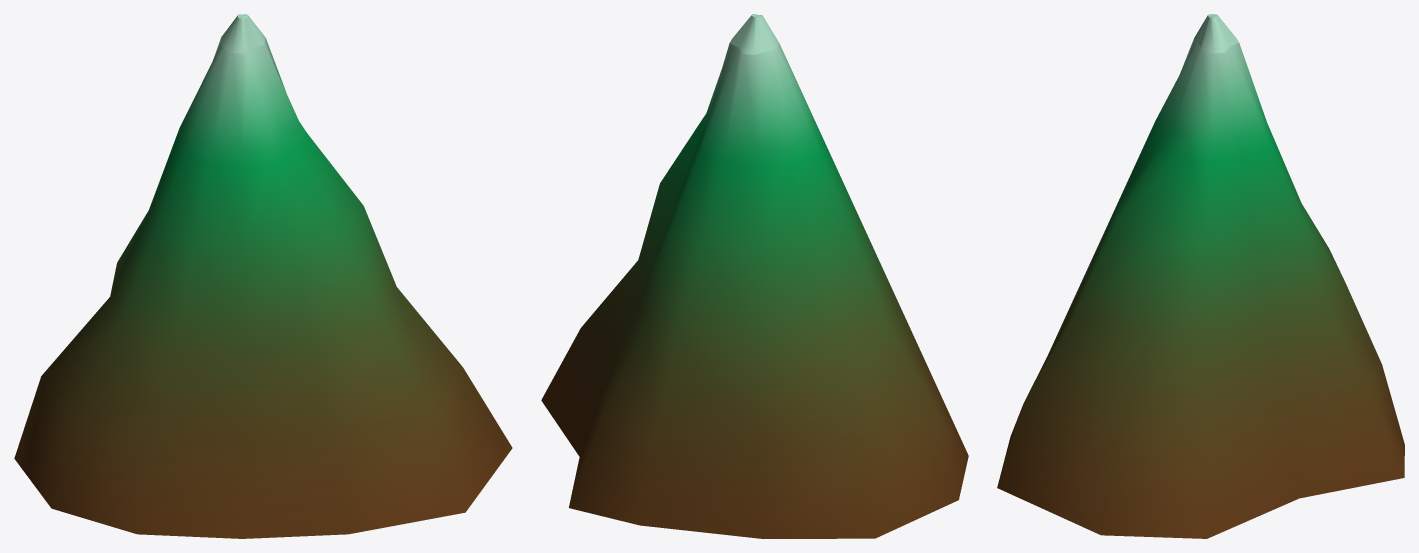
The model's file is mountain_one.FBX.
3 renders of one model, left to right at view 1: azimuth 30°, elevation 25°; view 2: azimuth 150°, elevation 25°; view 3: azimuth 270°, elevation 25°, orthographic. The views are drawn at different scales.
Visible parts, largest first — view 1: Cylinder001; view 2: Cylinder001; view 3: Cylinder001.
Part boxes in pixels (x1=…): Cylinder001: x1=14, y1=14, x2=512, y2=538; Cylinder001: x1=541, y1=14, x2=968, y2=538; Cylinder001: x1=997, y1=14, x2=1404, y2=538.
Bounding box in the file's own units: 318 × 322 × 283.
